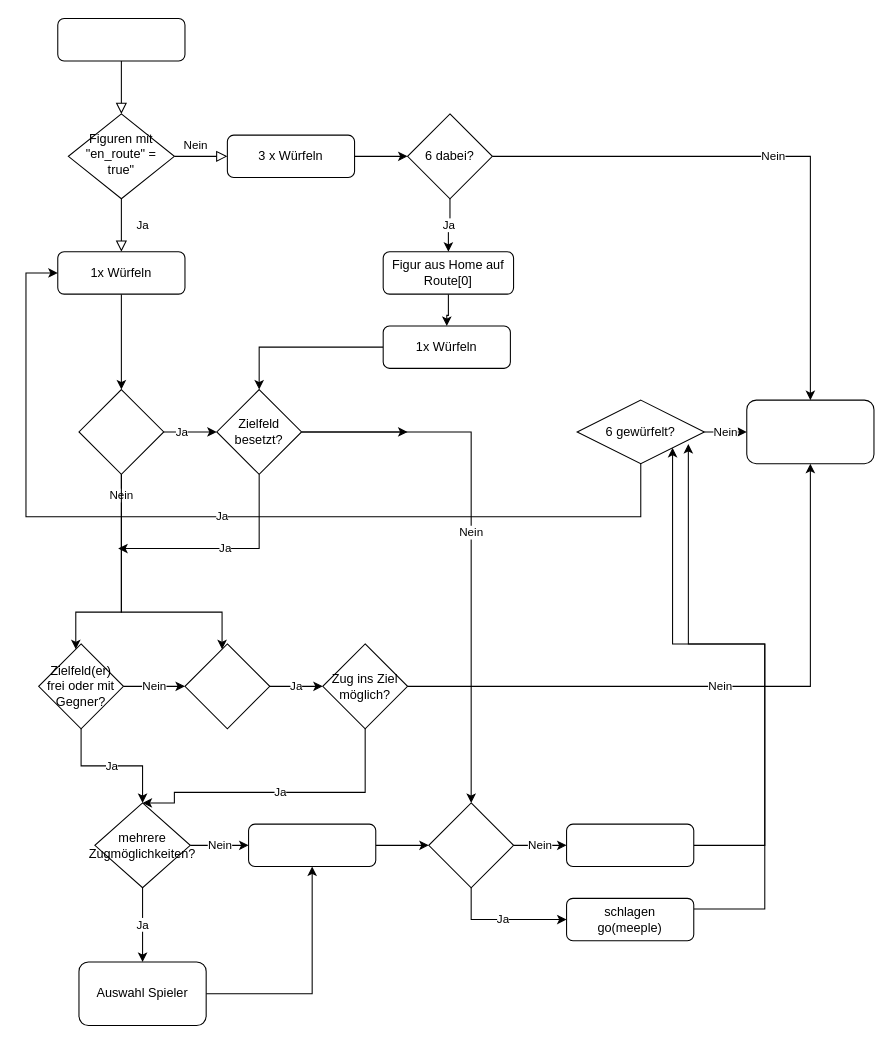
This 893x1044 diagram has some shape labels left out. The shapes that lost their labels are listed below. From the top down, each one's box as (x1, y1, x2, y2) in pixels, then its label:
(57, 17, 185, 61): set active_player
(78, 388, 164, 474): Meeple auf eigenem Start?
(746, 399, 874, 464): Nächster Spieler
(184, 643, 270, 729): Zielfeld(er) > route[39]
(248, 823, 376, 867): d -1 mal: go(meeple)
(428, 802, 514, 888): Gegner auf Zielfeld?
(566, 823, 694, 867): go(meeple)
